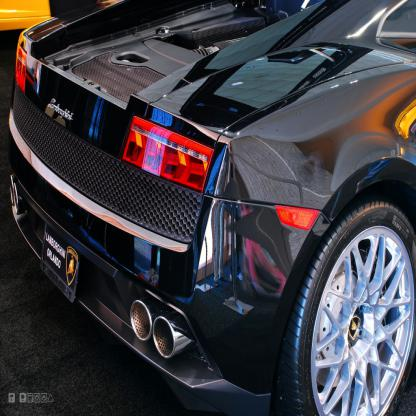Car: (6, 0, 416, 416), (0, 0, 113, 30)
